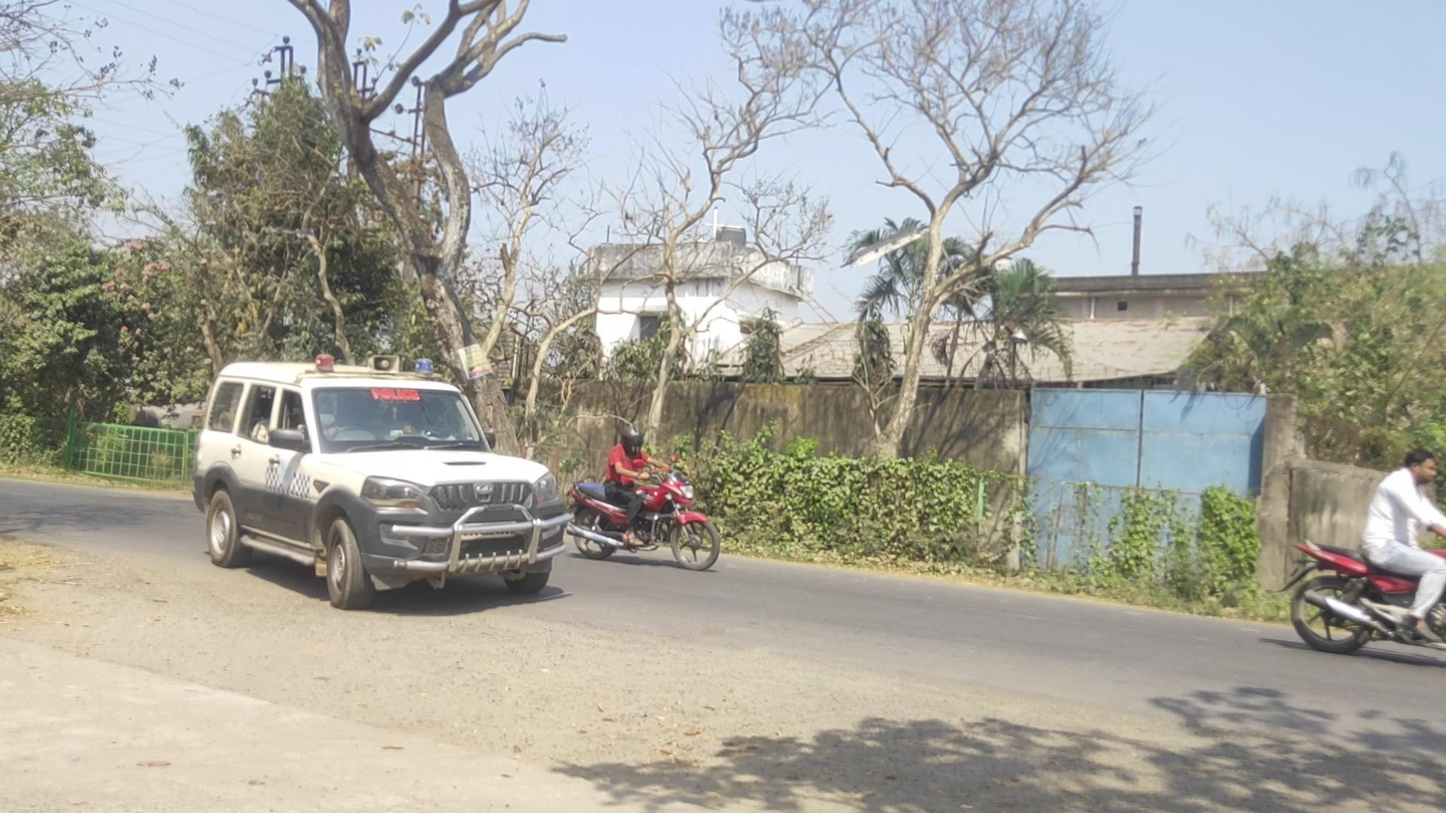bike: (1277, 447, 1446, 654), (567, 425, 720, 571)
car: (193, 353, 575, 609)
